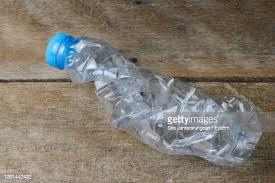plastic: (62, 33, 261, 171)
